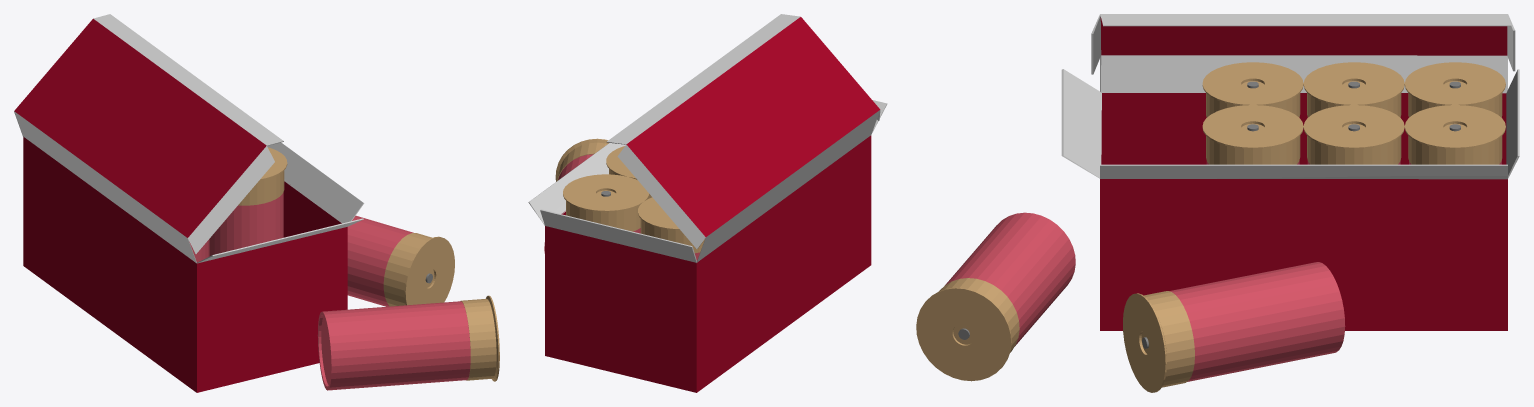
The model's file is ShotgunAmmo.fbx.
The picture shows the model from 3 angles, left to right: view 1: azimuth 30°, elevation 25°; view 2: azimuth 150°, elevation 25°; view 3: azimuth 270°, elevation 25°; orthographic projection. The views are drawn at different scales.
Parts seen in each view (by area): view 1: Cube, Cylinder.002, Cylinder.001, Cylinder; view 2: Cube, Cylinder, Cylinder.001; view 3: Cube, Cylinder, Cylinder.001, Cylinder.002.
Boxes of the visible parts, x1=… form: Cube: x1=14, y1=14, x2=364, y2=392; Cylinder.002: x1=317, y1=295, x2=499, y2=390; Cylinder.001: x1=347, y1=215, x2=454, y2=306; Cylinder: x1=189, y1=147, x2=287, y2=262; Cube: x1=528, y1=14, x2=887, y2=392; Cylinder: x1=563, y1=146, x2=705, y2=260; Cylinder.001: x1=544, y1=138, x2=608, y2=253; Cube: x1=1061, y1=14, x2=1519, y2=330; Cylinder: x1=1202, y1=62, x2=1505, y2=164; Cylinder.001: x1=1123, y1=262, x2=1345, y2=392; Cylinder.002: x1=916, y1=212, x2=1075, y2=381.
Bounding box in the file's own units: 14.25 × 10.63 × 21.49.
